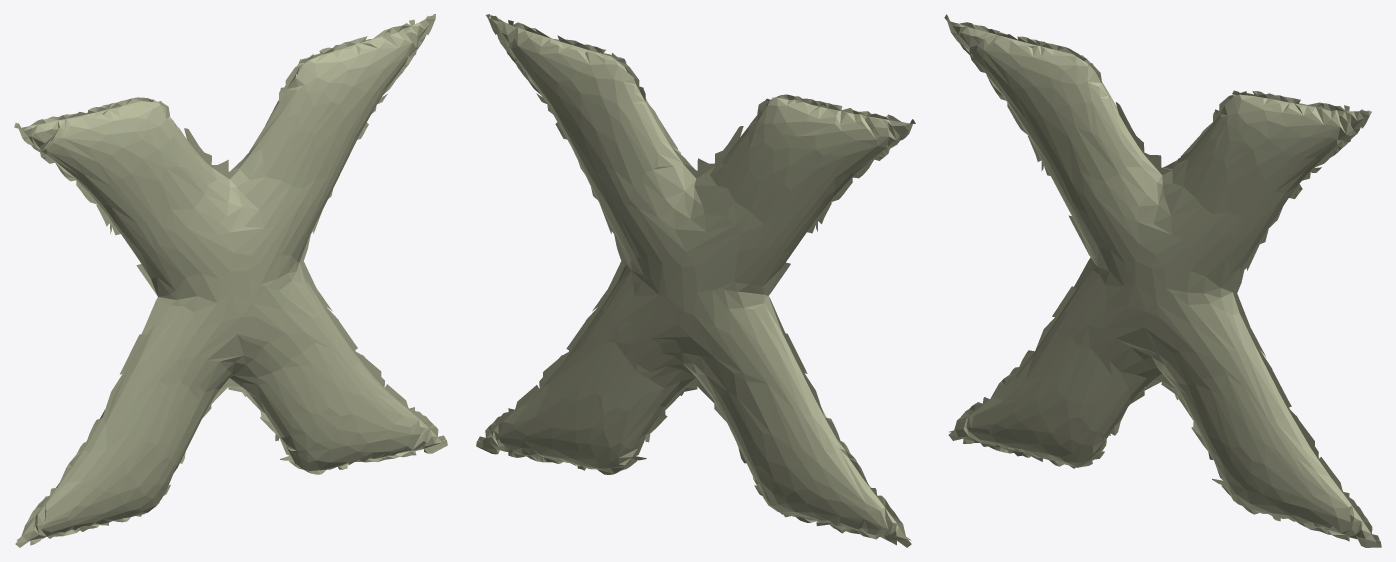
The model's file is tinker.obj.
The picture shows the model from 3 angles, left to right: view 1: azimuth 30°, elevation 25°; view 2: azimuth 150°, elevation 25°; view 3: azimuth 330°, elevation 25°; orthographic projection.
Visible parts, largest first — view 1: obj_0; view 2: obj_0; view 3: obj_0.
Boxes of the visible parts, x1,y1,x2,y2 form: obj_0: [14, 14, 447, 547]; obj_0: [476, 14, 915, 547]; obj_0: [944, 14, 1381, 547].
Bounding box in the file's own units: 16.1 × 15.48 × 1.84.
